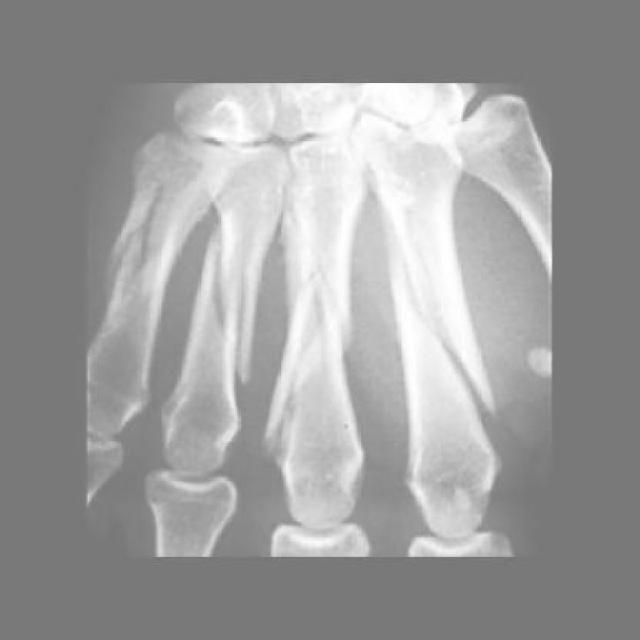Fracture: (257, 208, 374, 476), (382, 195, 504, 437), (176, 217, 267, 397), (91, 179, 179, 327)
